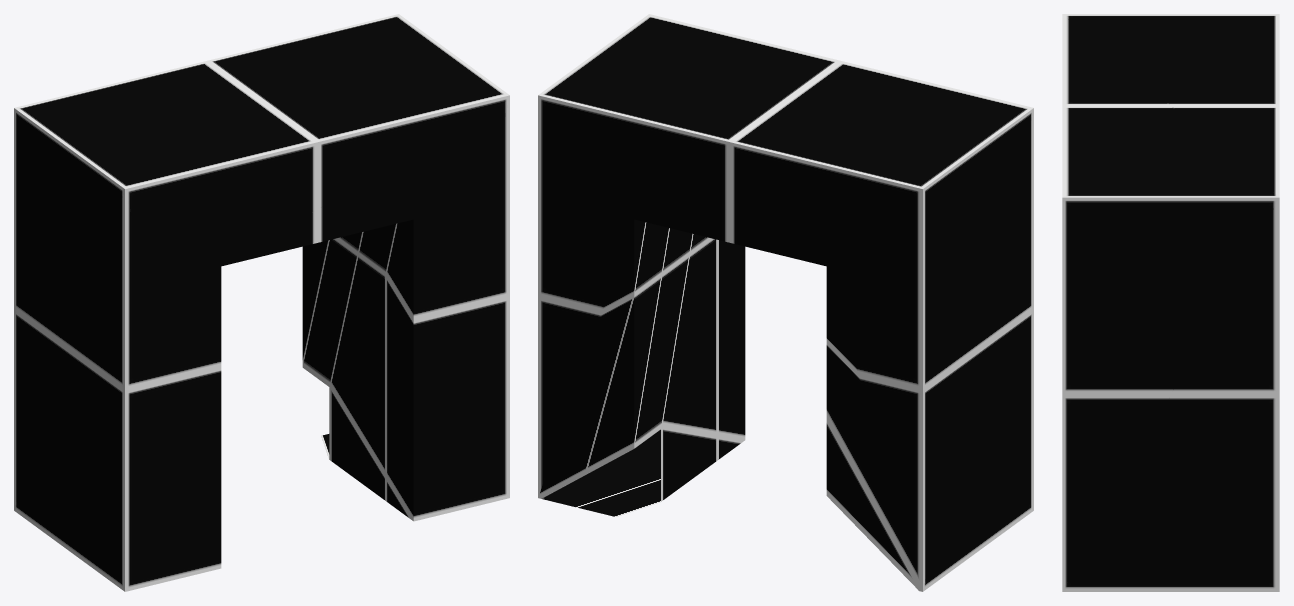
File: Model_Portal.fbx
3 renders of one model, left to right at view 1: azimuth 30°, elevation 25°; view 2: azimuth 150°, elevation 25°; view 3: azimuth 270°, elevation 25°, orthographic. The views are drawn at different scales.
Parts seen in each view (by area): view 1: Portal; view 2: Portal; view 3: Portal.
Part boxes in pixels (bbox=[...]): Portal: bbox=[14, 14, 509, 591]; Portal: bbox=[538, 14, 1033, 591]; Portal: bbox=[1062, 14, 1279, 591].
Bounding box in the file's own units: 400 × 400 × 200.
